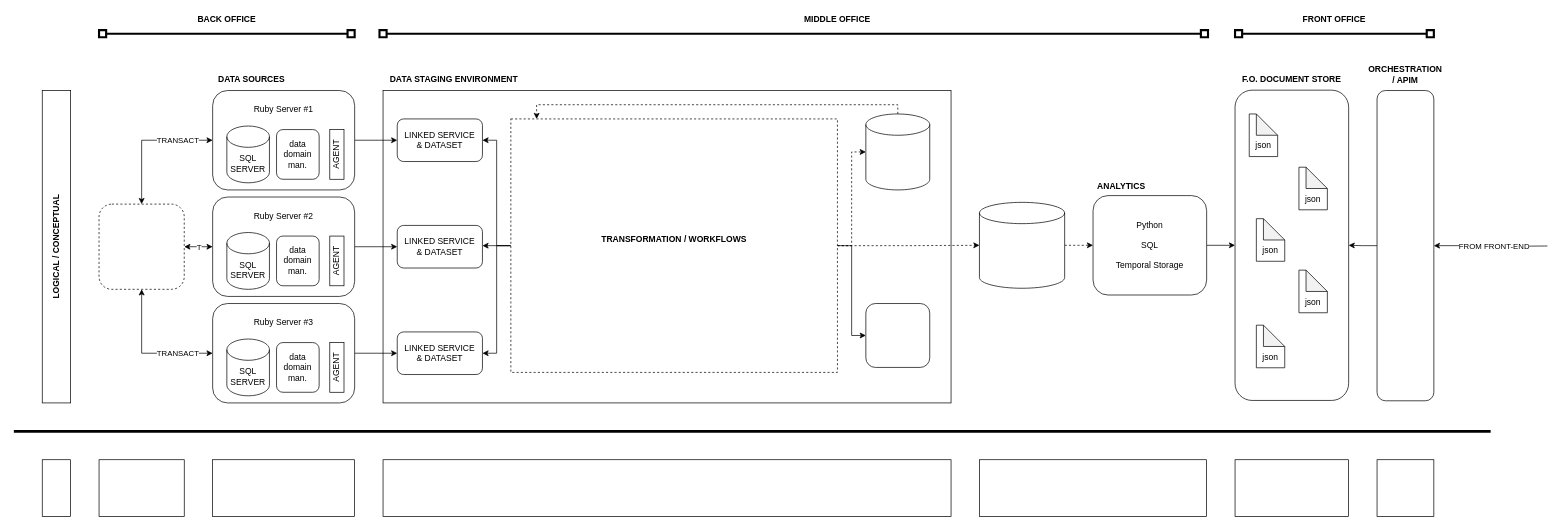
Some shapes in this 1566 by 529 pixel diagram are drawn without their labels. Each missing label, with the centre of its shape:
AZURE SQL DATABASE: the point at 1093,488
AZURE SYNAPSE: the point at 666,488
COSMOS DB: the point at 1291,488
Customer UUID Service: the point at 141,246
data science / analytics warehouse: the point at 1022,245
F.O. document creation: the point at 897,335
GET POST PATCH: the point at 1405,245
GRAPHQL: the point at 1405,488
MICRO-SERVICE: the point at 141,488
optional sink storage: the point at 897,151
RUBY / SQL: the point at 283,488
TOOLS: the point at 56,488
